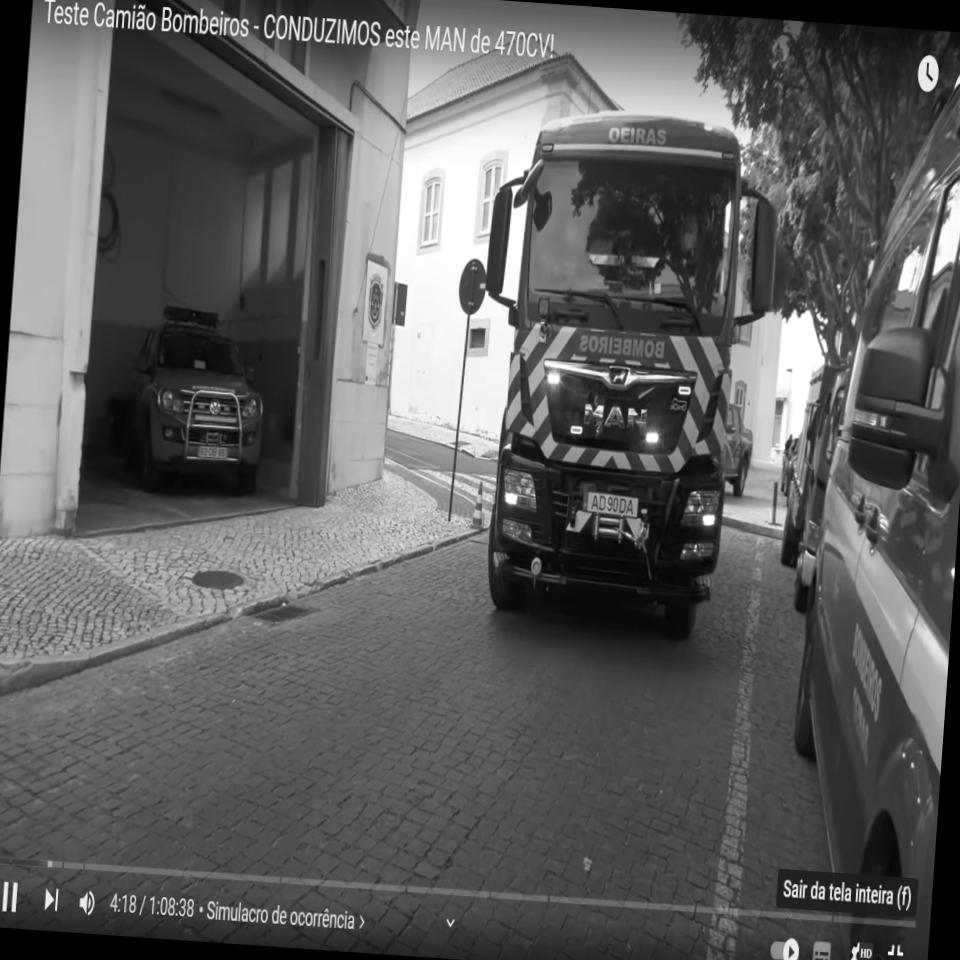viatura: (460, 95, 794, 648), (120, 294, 277, 504)
